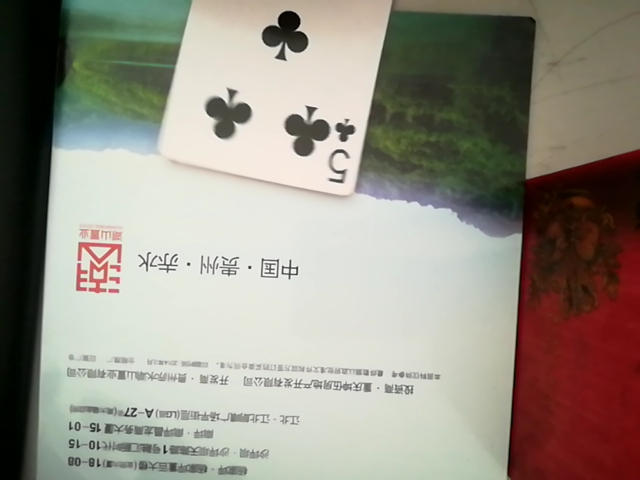mh 5: (155, 0, 401, 197)
